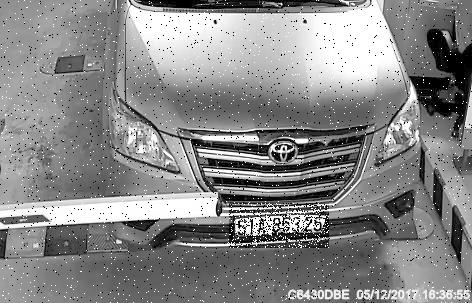License-plate: (230, 204, 330, 249)
